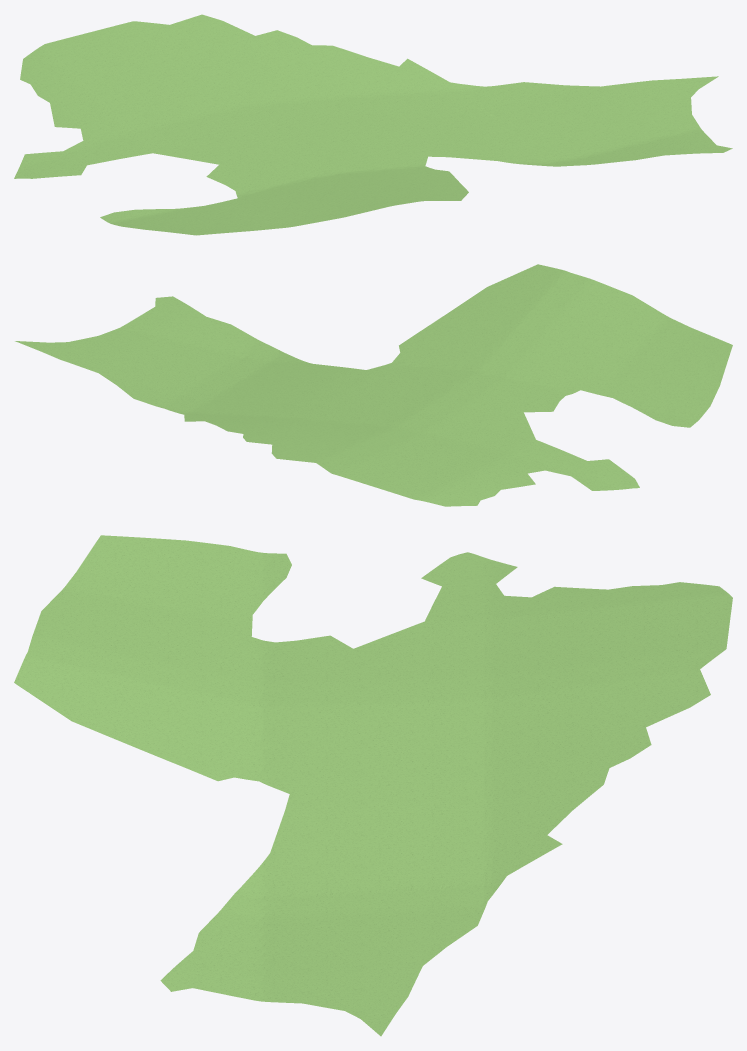
Rendered from lawn.glb.
The picture shows the model from 3 angles, top to bottom: view 1: azimuth 30°, elevation 25°; view 2: azimuth 150°, elevation 25°; view 3: azimuth 270°, elevation 25°; orthographic projection. The views are drawn at different scales.
Bounding box in the file's own units: 156 × 18.3 × 109.
1 material, 1 textured.
